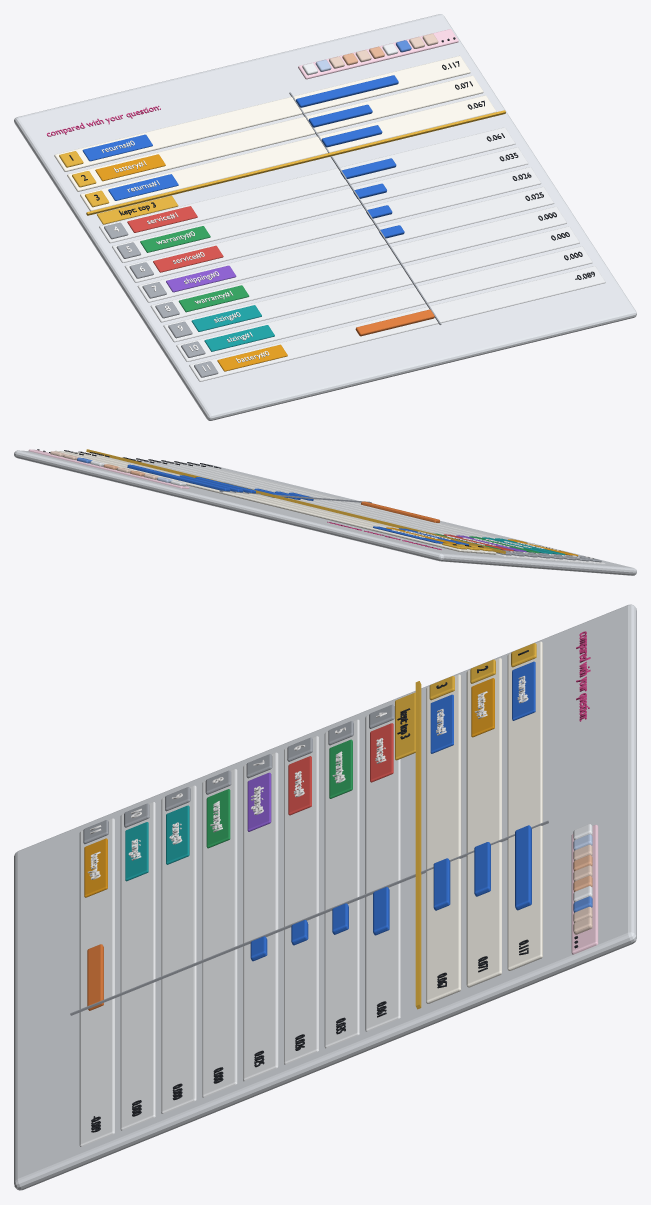
Rendered from retriever.glb.
3 renders of one model, top to bottom at view 1: azimuth 30°, elevation 25°; view 2: azimuth 150°, elevation 25°; view 3: azimuth 270°, elevation 25°, orthographic. The views are drawn at different scales.
Parts seen in each view (by area): view 1: tray, warranty#1_rowbg, sizing#0_rowbg, sizing#1_rowbg, shipping#0_rowbg, service#0_rowbg, warranty#0_rowbg, battery#1_rowbg, service#1_rowbg, returns#1_rowbg, battery#0_rowbg, returns#0_rowbg (+19 smaller); view 2: tray, returns#0_rowbg, cutoff, sizing#1_rowbg, sizing#0_rowbg, warranty#1_rowbg, shipping#0_rowbg, battery#0_rowbg, returns#1_rowbg, q_vec, service#0_rowbg, battery#1_rowbg (+6 smaller); view 3: tray, sizing#1_rowbg, sizing#0_rowbg, warranty#1_rowbg, shipping#0_rowbg, warranty#0_rowbg, service#0_rowbg, returns#1_rowbg, battery#1_rowbg, battery#0_rowbg, service#1_rowbg, returns#0_rowbg (+19 smaller).
Boxes of the visible parts, box(x1,y1,x2,y2) form: tray: box(14, 14, 636, 420); warranty#1_rowbg: box(150, 206, 566, 322); sizing#0_rowbg: box(163, 226, 579, 342); sizing#1_rowbg: box(176, 246, 592, 361); shipping#0_rowbg: box(137, 186, 554, 302); service#0_rowbg: box(124, 167, 541, 282); warranty#0_rowbg: box(112, 147, 528, 262); battery#1_rowbg: box(67, 75, 483, 191); service#1_rowbg: box(99, 127, 515, 243); returns#1_rowbg: box(80, 95, 496, 211); battery#0_rowbg: box(189, 266, 605, 381); returns#0_rowbg: box(54, 55, 470, 171); tray: box(14, 450, 636, 575); returns#0_rowbg: box(55, 450, 470, 552); cutoff: box(86, 449, 505, 553); sizing#1_rowbg: box(177, 462, 592, 563); sizing#0_rowbg: box(164, 461, 579, 562); warranty#1_rowbg: box(151, 460, 566, 561); shipping#0_rowbg: box(138, 459, 554, 560); battery#0_rowbg: box(190, 463, 605, 564); returns#1_rowbg: box(81, 453, 496, 554); q_vec: box(50, 451, 186, 486); service#0_rowbg: box(134, 459, 541, 559); battery#1_rowbg: box(68, 451, 483, 553); tray: box(14, 604, 636, 1190); sizing#1_rowbg: box(120, 802, 155, 1130); sizing#0_rowbg: box(161, 785, 196, 1113); warranty#1_rowbg: box(202, 769, 237, 1097); shipping#0_rowbg: box(243, 752, 278, 1081); warranty#0_rowbg: box(324, 719, 359, 1048); service#0_rowbg: box(284, 736, 318, 1064); returns#1_rowbg: box(426, 674, 461, 1003); battery#1_rowbg: box(466, 658, 501, 987); battery#0_rowbg: box(79, 818, 114, 1146); service#1_rowbg: box(365, 704, 400, 1031); returns#0_rowbg: box(507, 641, 542, 970).
Size of the model in its own units: 0.74 by 0.2674 by 0.5856.
